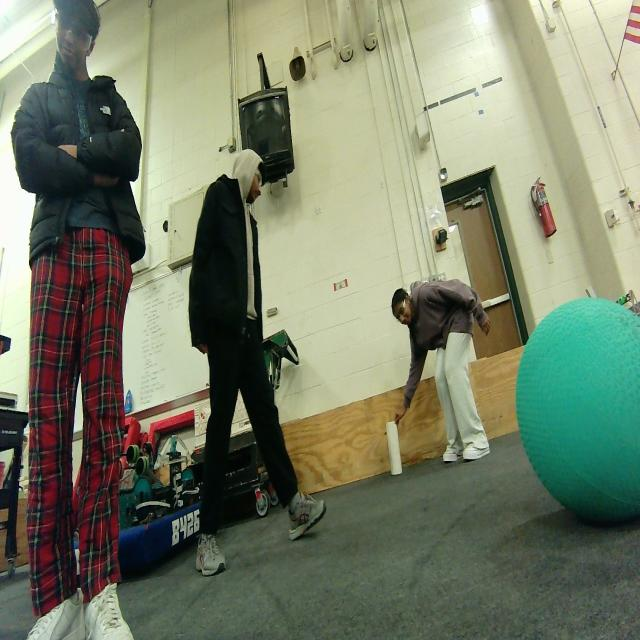algae: (516, 298, 640, 525)
coral: (386, 421, 402, 475)
